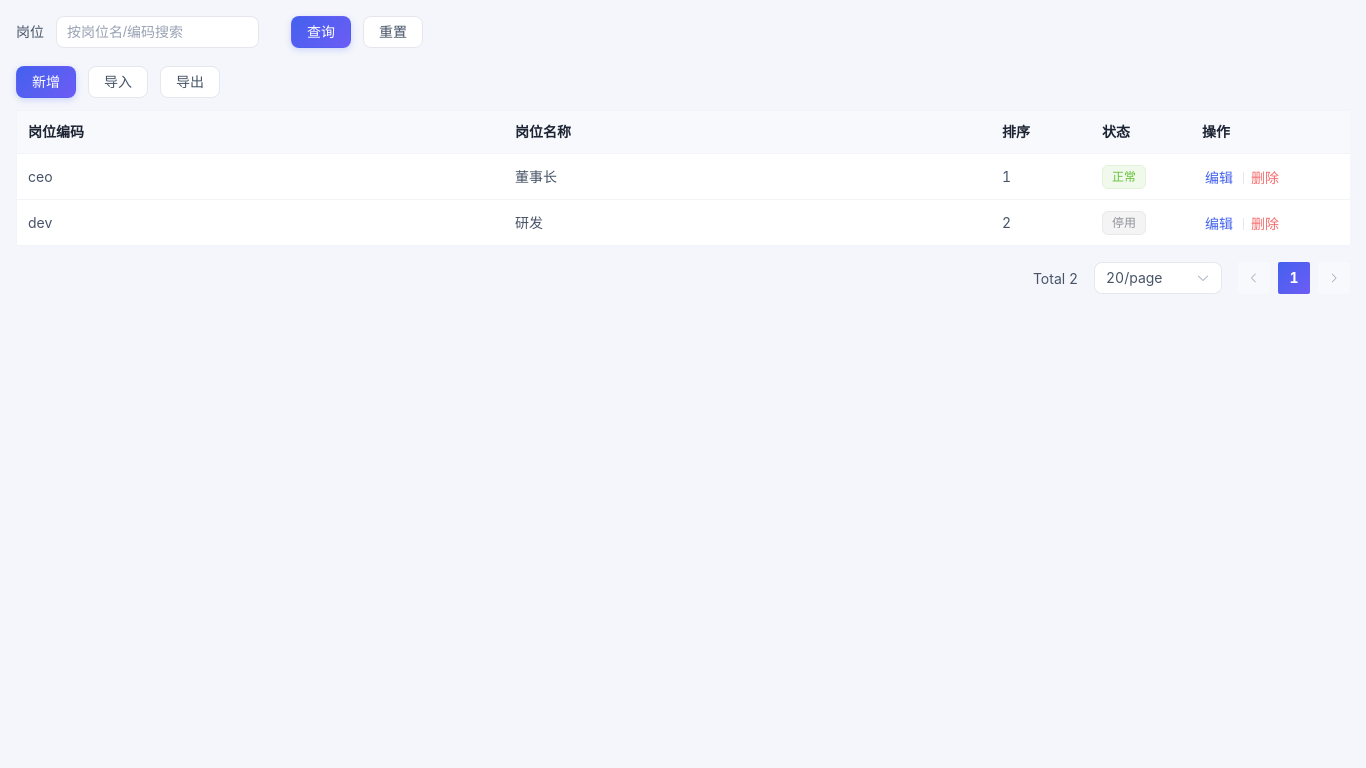
Test: 岗位管理页 › 点新增 → 打开对话框（新增岗位标题）
Step 1. Click the button "新增" → coordinates (46, 82), box [16,66,76,98]
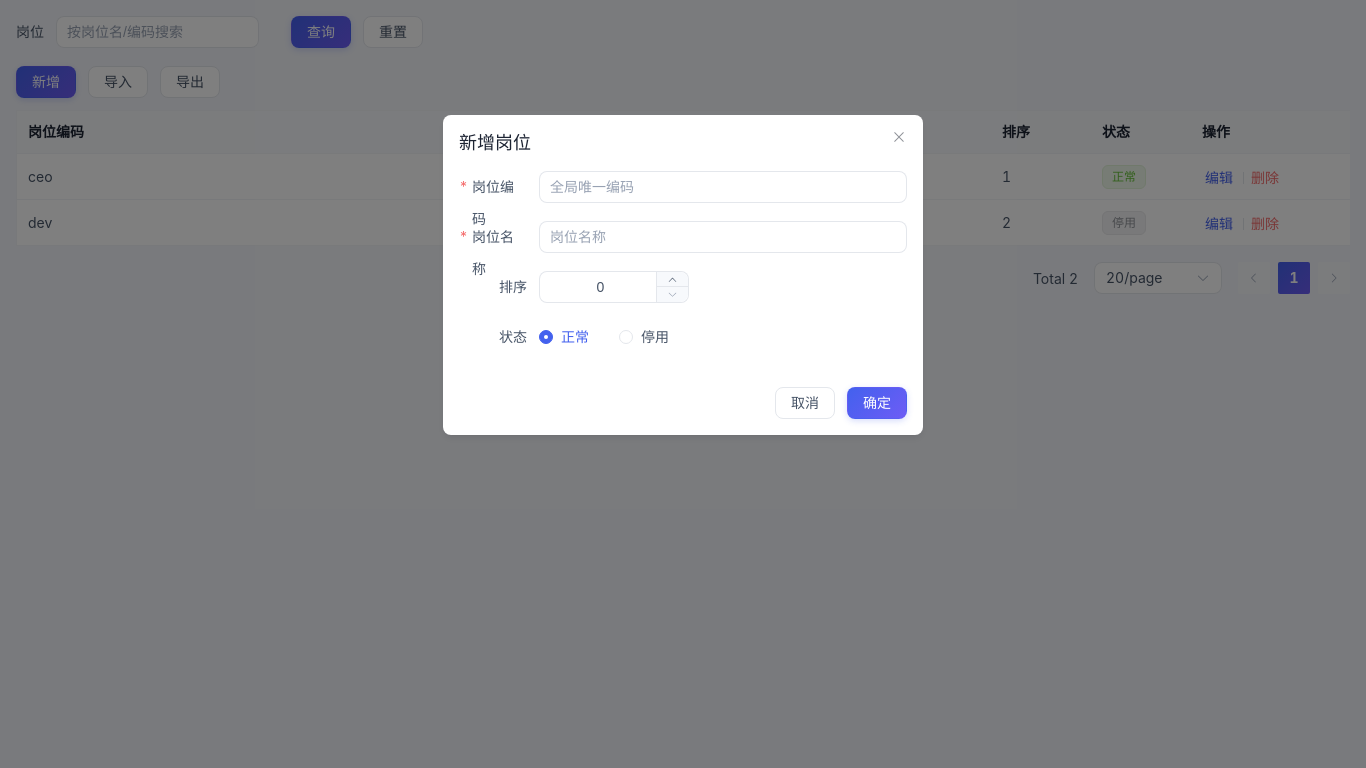
Expected: the text "新增岗位" is shown, [459,132,531,153]
